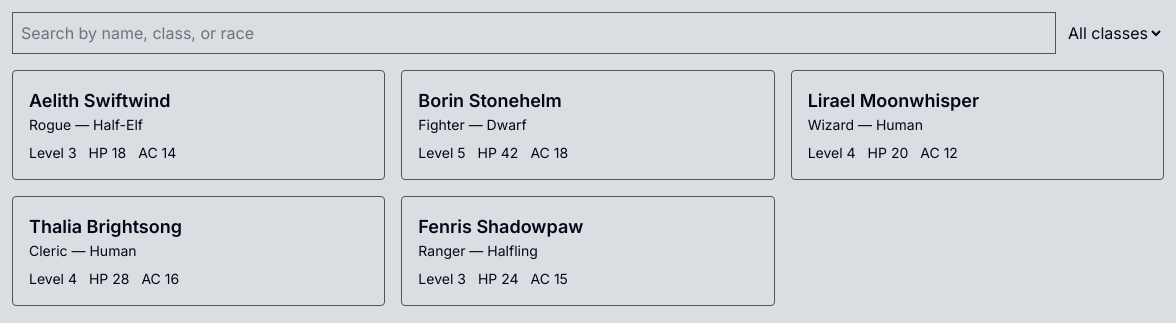
Test: CharacterList › filters results when typing in search box
Type "Wizard" into the field named "Search characters".
click(534, 33); type("Wizard")  # box [12, 12, 1056, 54]
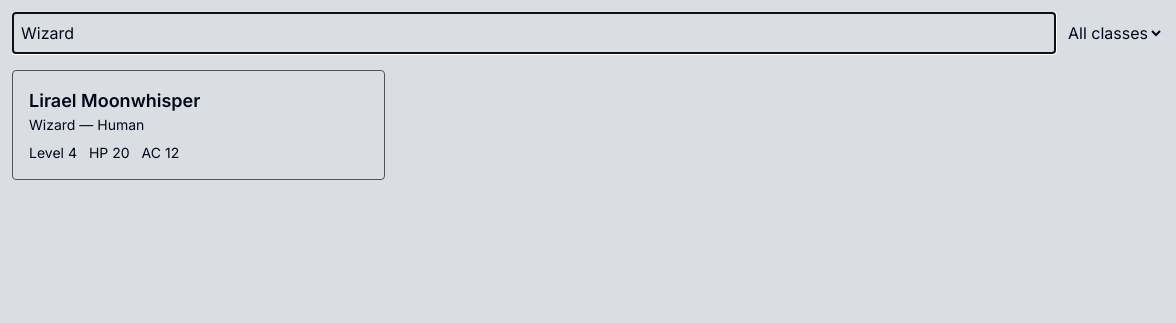
Expected: the link "Lirael Moonwhisper" is shown, [29, 90, 200, 111]
Result: the link "Borin Stonehelm" is gone
